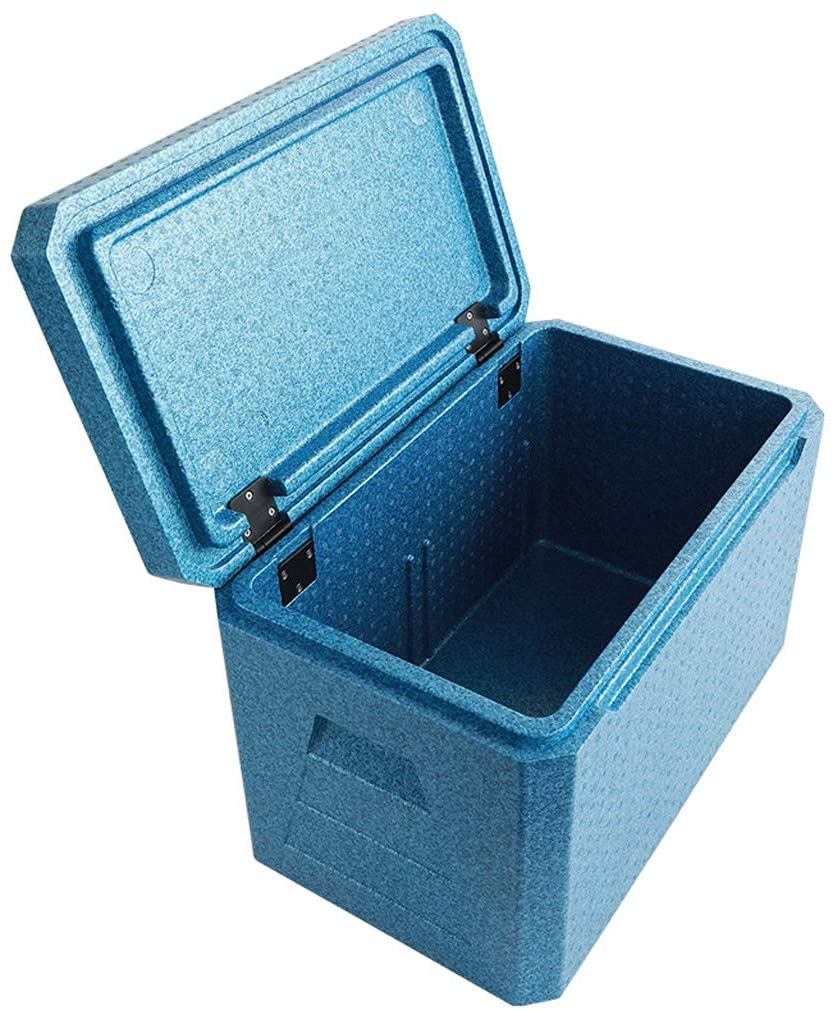Foam Box: (10, 7, 832, 1010)
